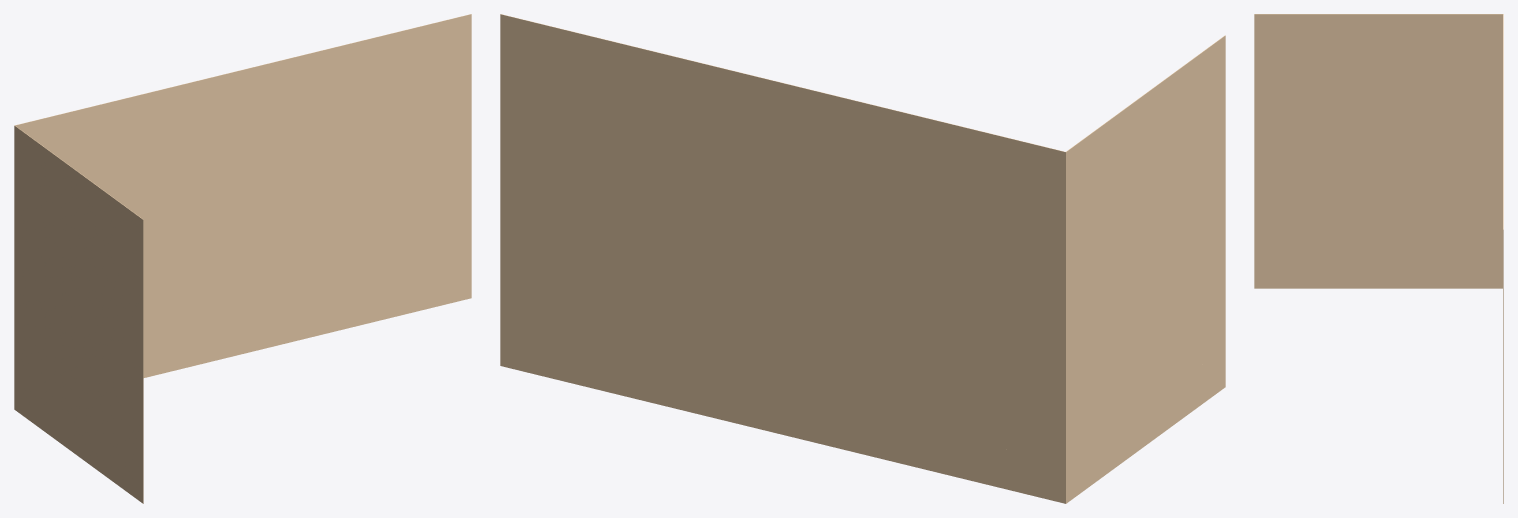
File: mamposteria.glb
3 renders of one model, left to right at view 1: azimuth 30°, elevation 25°; view 2: azimuth 150°, elevation 25°; view 3: azimuth 270°, elevation 25°, orthographic. The views are drawn at different scales.
Bounding box in the file's own units: 5.04 × 2.99 × 2.46.
